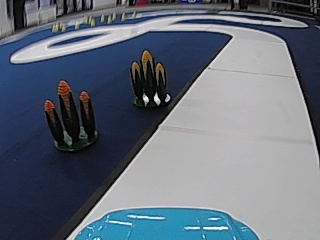corn: (44, 78, 100, 152), (128, 48, 172, 107)
